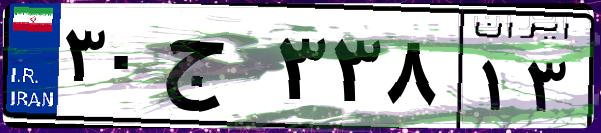0: (110, 28, 158, 98)
1: (475, 38, 525, 113)
3: (270, 28, 330, 110), (330, 28, 385, 110), (57, 26, 110, 100), (525, 38, 570, 115)
8: (385, 28, 445, 110)
ج: (158, 20, 270, 120)
